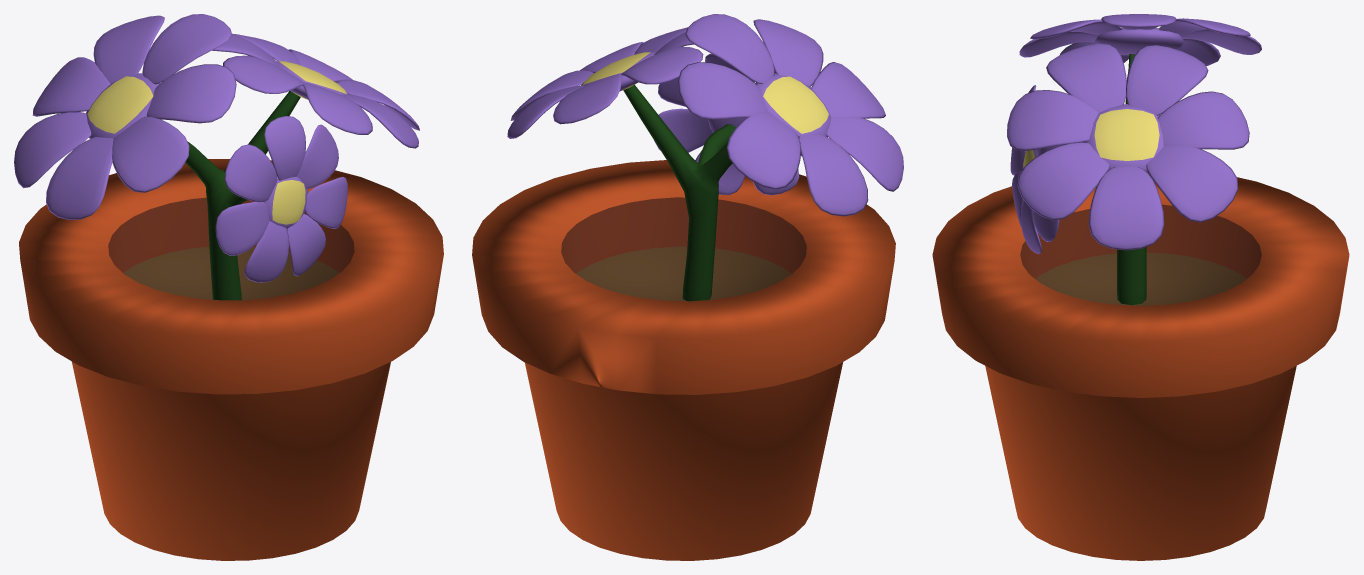
Rendered from Bunga.fbx.
3 renders of one model, left to right at view 1: azimuth 30°, elevation 25°; view 2: azimuth 150°, elevation 25°; view 3: azimuth 270°, elevation 25°, orthographic. The views are drawn at different scales.
Visible parts, largest first — view 1: Circle, Cube.003, Cube.002, Cube.001, Cube; view 2: Circle, Cube.003, Cube.001, Cube, Cube.002; view 3: Circle, Cube.001, Cube.003, Cube.002, Cube.
Part boxes in pixels (<box>): Circle: <box>19,159,443,560</box>; Cube.003: <box>14,14,236,220</box>; Cube.002: <box>215,116,347,282</box>; Cube.001: <box>212,33,419,148</box>; Cube: <box>185,91,300,300</box>; Circle: <box>472,160,895,560</box>; Cube.003: <box>678,14,903,216</box>; Cube.001: <box>507,27,703,138</box>; Cube: <box>623,84,735,301</box>; Cube.002: <box>654,53,802,195</box>; Circle: <box>932,172,1349,560</box>; Cube.001: <box>1007,43,1249,250</box>; Cube.003: <box>1019,14,1261,65</box>; Cube.002: <box>1010,85,1062,254</box>; Cube: <box>1095,54,1146,305</box>.
Bounding box in the file's own units: 343 × 421 × 333.
